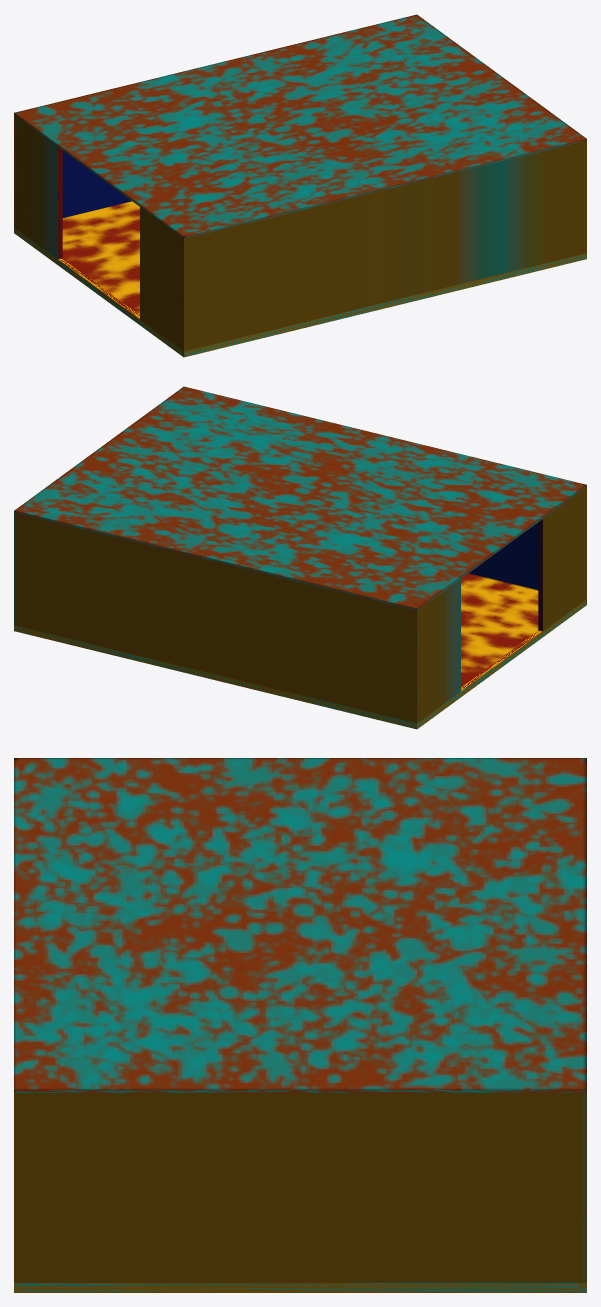
File: StoreHouse.fbx
3 views of the same model, one above another, from view 1: azimuth 30°, elevation 25°; view 2: azimuth 150°, elevation 25°; view 3: azimuth 270°, elevation 25° (orthographic). The views are drawn at different scales.
Visible parts, largest first — view 1: StoreHouse; view 2: StoreHouse; view 3: StoreHouse.
Boxes of the visible parts, bbox=[...] form: StoreHouse: bbox=[14, 14, 586, 357]; StoreHouse: bbox=[14, 386, 586, 729]; StoreHouse: bbox=[14, 758, 586, 1292].
Size of the model in its own units: 2049 by 584 by 1495.
